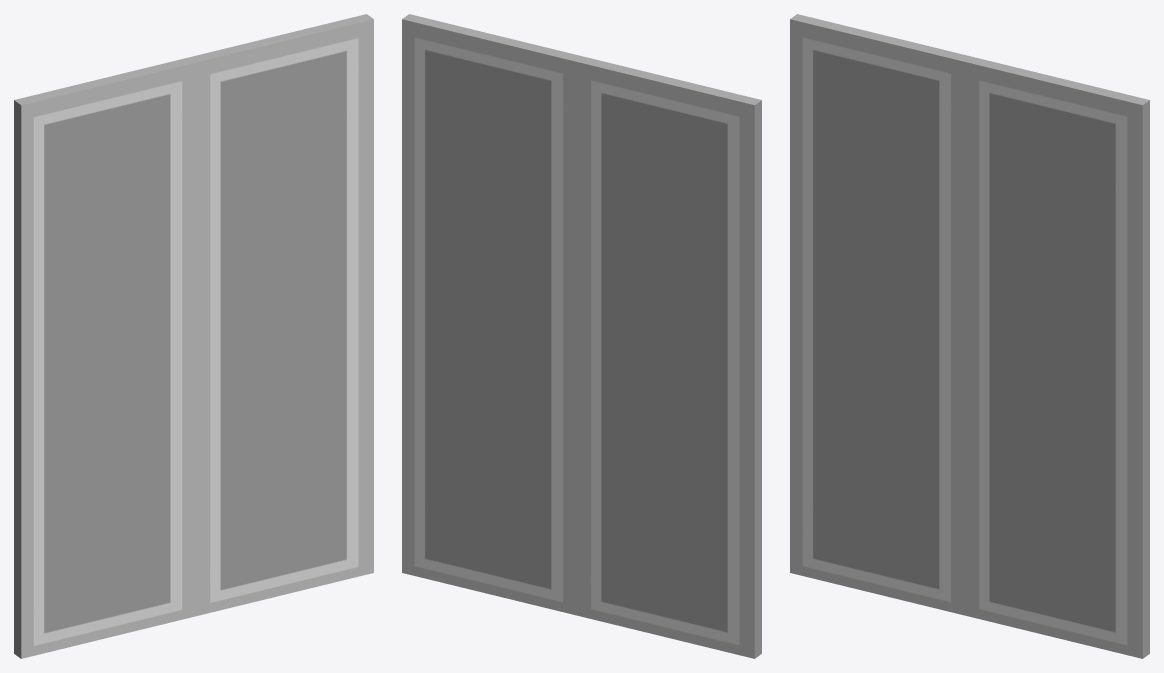
Rendered from Wall_Gray_2m.fbx.
3 views of the same model, side by side, from view 1: azimuth 30°, elevation 25°; view 2: azimuth 150°, elevation 25°; view 3: azimuth 330°, elevation 25° (orthographic).
Parts seen in each view (by area): view 1: Wall_Gray_2m; view 2: Wall_Gray_2m; view 3: Wall_Gray_2m.
Boxes of the visible parts, x1,y1,x2,y2 form: Wall_Gray_2m: (14, 14, 373, 658); Wall_Gray_2m: (402, 14, 761, 658); Wall_Gray_2m: (790, 14, 1149, 658).
Size of the model in its own units: 200 by 300 by 7.
